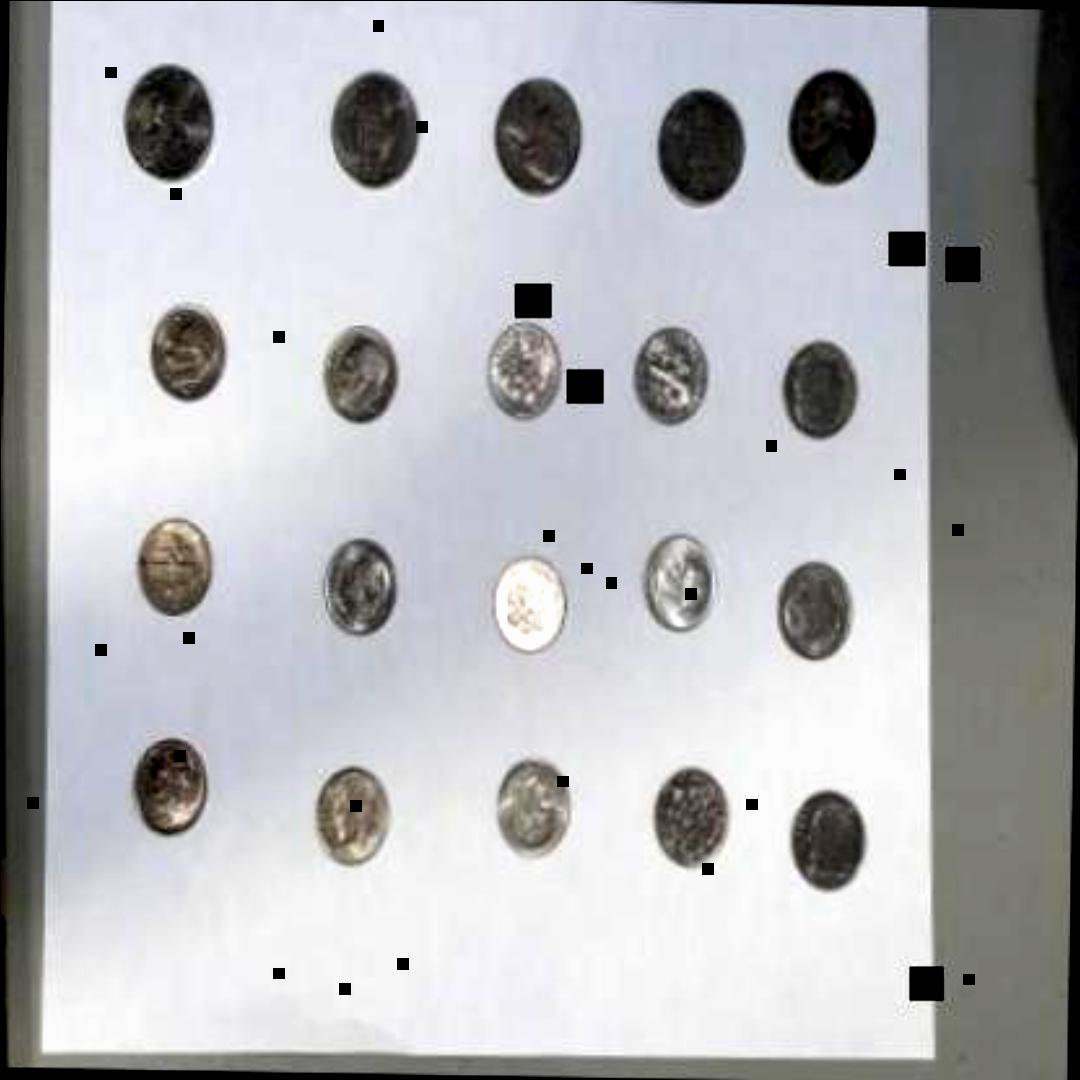Dime: (778, 325, 866, 447), (491, 752, 579, 868), (787, 791, 875, 905), (647, 768, 735, 879), (129, 736, 217, 846), (318, 540, 404, 650), (151, 304, 231, 415), (778, 562, 858, 672), (486, 320, 566, 430), (644, 536, 724, 642), (323, 330, 403, 436), (313, 769, 393, 875), (142, 517, 222, 623), (636, 329, 712, 432), (497, 558, 572, 660)
Nickel: (654, 81, 746, 223), (787, 68, 883, 200), (492, 75, 588, 207), (122, 66, 220, 194), (332, 70, 426, 198)
